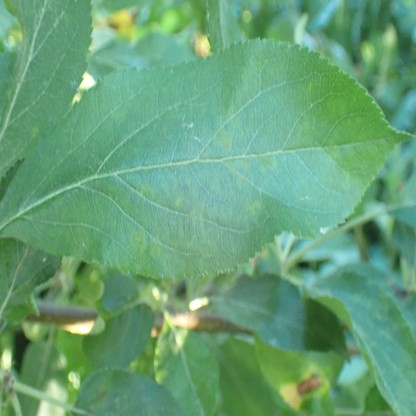scab: (172, 240, 218, 277), (189, 205, 226, 237), (89, 374, 114, 408), (129, 229, 147, 252), (257, 153, 275, 173), (136, 181, 154, 199), (246, 199, 262, 219), (215, 129, 231, 148), (151, 241, 164, 260), (171, 193, 181, 211), (223, 156, 235, 171), (237, 176, 247, 191), (239, 156, 251, 166)
